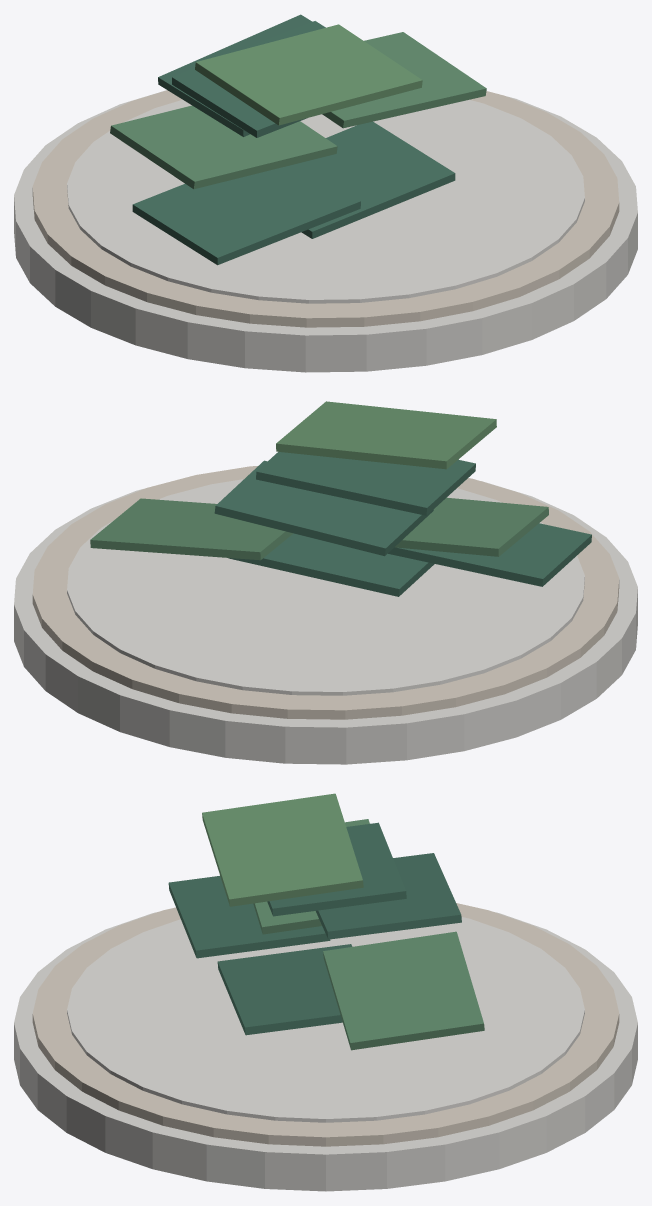
File: rong_bien.glb
3 views of the same model, one above another, from view 1: azimuth 30°, elevation 25°; view 2: azimuth 150°, elevation 25°; view 3: azimuth 270°, elevation 25° (orthographic).
Visible parts, largest first — view 1: obj_0002, obj_0000, obj_0001, obj_0009, obj_0004, obj_0006, obj_0003, obj_0005, obj_0008, obj_0007; view 2: obj_0002, obj_0000, obj_0001, obj_0009, obj_0007, obj_0005, obj_0008, obj_0006, obj_0003, obj_0004; view 3: obj_0002, obj_0000, obj_0001, obj_0005, obj_0009, obj_0003, obj_0004, obj_0007, obj_0008, obj_0006.
Boxes of the visible parts, x1,y1,x2,y2 form: obj_0002: [67, 99, 584, 303]; obj_0000: [14, 90, 637, 372]; obj_0001: [32, 90, 619, 327]; obj_0009: [195, 24, 422, 125]; obj_0004: [132, 163, 360, 265]; obj_0006: [110, 105, 337, 189]; obj_0003: [300, 121, 455, 238]; obj_0005: [322, 32, 486, 128]; obj_0008: [172, 21, 325, 137]; obj_0007: [158, 14, 312, 136]; obj_0002: [67, 479, 584, 695]; obj_0000: [14, 481, 637, 764]; obj_0001: [32, 465, 619, 719]; obj_0009: [276, 401, 496, 469]; obj_0007: [214, 460, 433, 556]; obj_0005: [90, 498, 292, 560]; obj_0008: [256, 452, 475, 515]; obj_0006: [395, 497, 548, 556]; obj_0003: [228, 533, 434, 596]; obj_0004: [388, 523, 591, 586]; obj_0002: [67, 917, 584, 1122]; obj_0000: [14, 912, 637, 1191]; obj_0001: [32, 903, 619, 1146]; obj_0005: [323, 931, 484, 1050]; obj_0009: [202, 793, 363, 906]; obj_0003: [217, 944, 352, 1035]; obj_0004: [168, 876, 330, 958]; obj_0007: [316, 853, 461, 939]; obj_0008: [267, 822, 406, 916]; obj_0006: [253, 819, 369, 934].
Size of the model in its own units: 1.84 by 0.6673 by 1.84.
